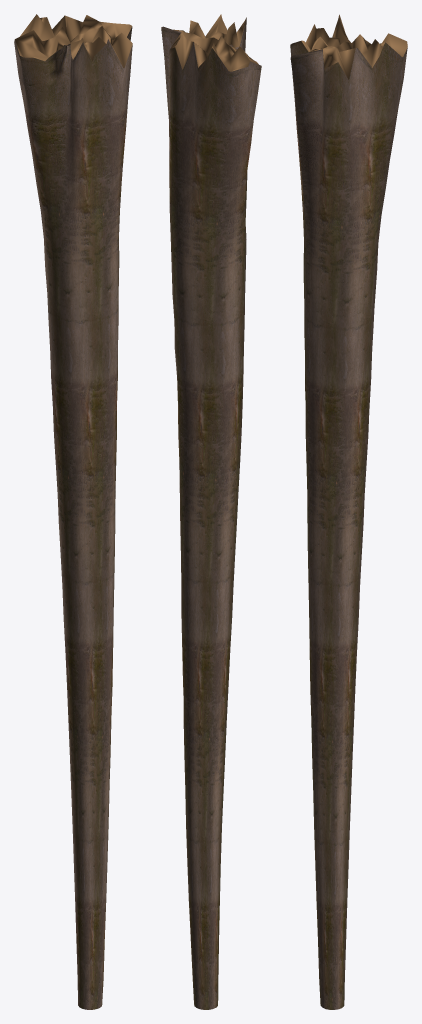
Rendered from tree-17-club.glb.
The picture shows the model from 3 angles, left to right: view 1: azimuth 90°, elevation 25°; view 2: azimuth 210°, elevation 25°; view 3: azimuth 270°, elevation 25°; orthographic projection.
Parts seen in each view (by area): view 1: SugarMaple_Individual17_Club; view 2: SugarMaple_Individual17_Club; view 3: SugarMaple_Individual17_Club.
Part boxes in pixels (bbox=[...]): SugarMaple_Individual17_Club: bbox=[14, 14, 132, 1009]; SugarMaple_Individual17_Club: bbox=[161, 14, 261, 1009]; SugarMaple_Individual17_Club: bbox=[290, 14, 407, 1009].
Bounding box in the file's own units: 0.4044 × 5.23 × 0.5739.
2 materials, 1 textured.
